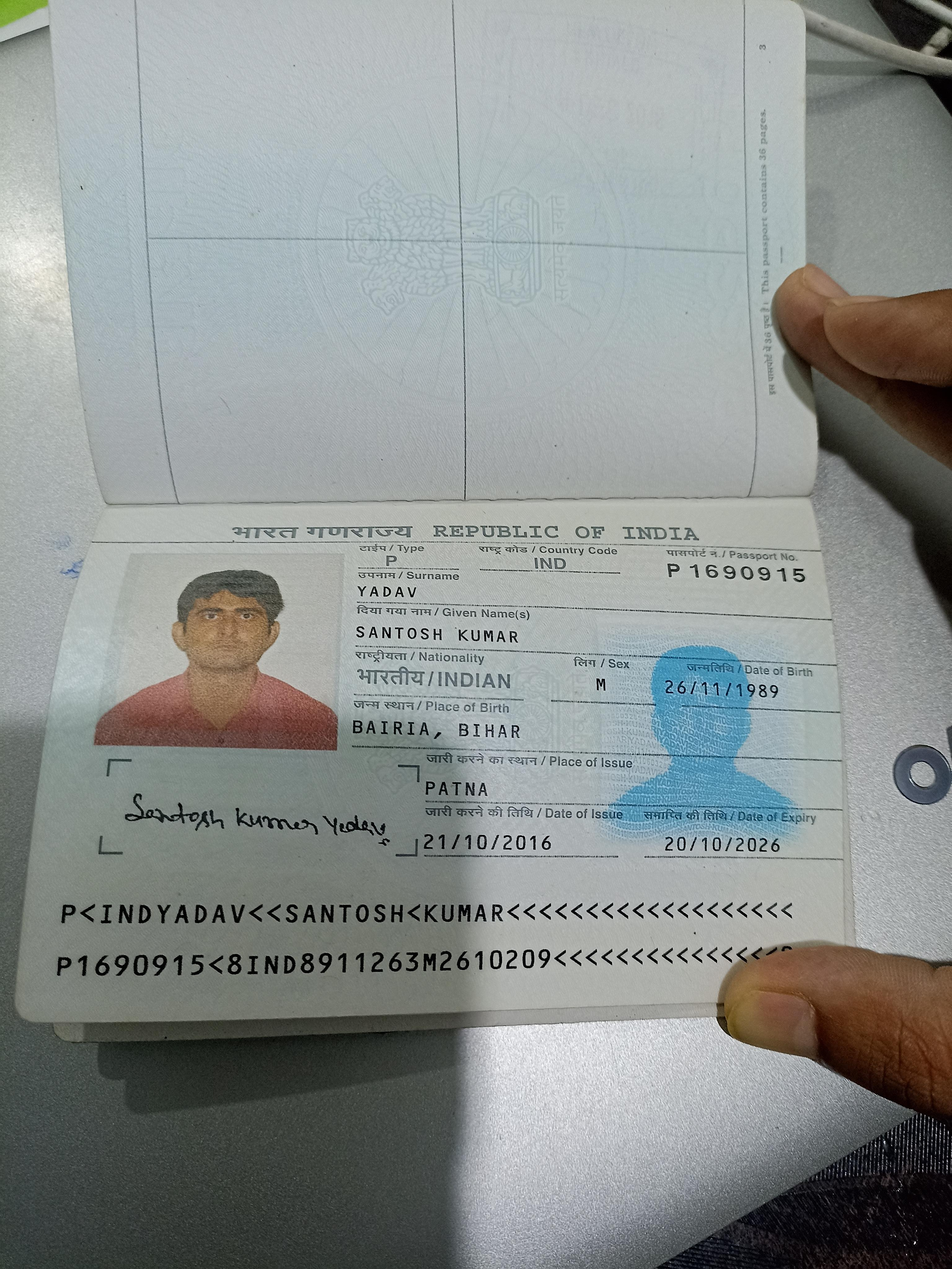DOB: (655, 672, 790, 704)
Surname: (355, 582, 435, 605)
country_code: (527, 554, 572, 576)
date_of_expiry: (658, 826, 790, 865)
date_of_issue: (418, 824, 559, 860)
details: (51, 889, 801, 975)
name: (346, 618, 532, 645)
nationality: (347, 662, 516, 694)
passport_no: (657, 555, 809, 589)
photo: (117, 548, 340, 749)
place_of_birth: (345, 711, 521, 741)
place_of_issue: (420, 769, 495, 808)
sex: (589, 670, 615, 697)
sign: (109, 783, 400, 856)
type: (381, 549, 403, 571)
